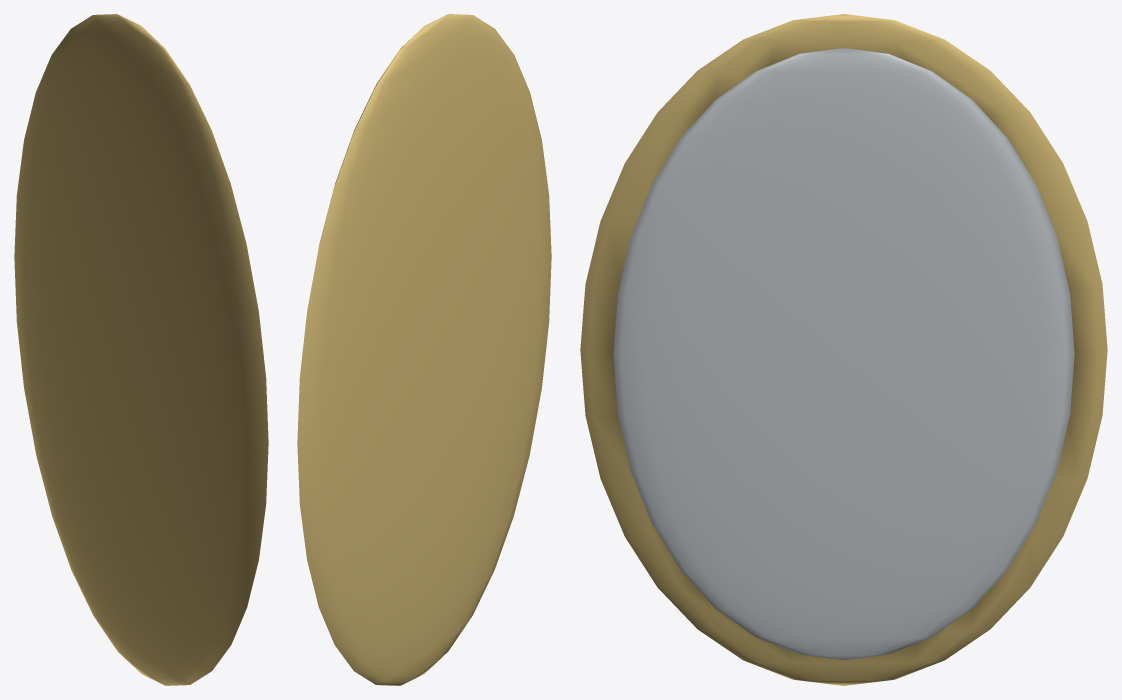
File: mirror.glb
3 renders of one model, left to right at view 1: azimuth 30°, elevation 25°; view 2: azimuth 150°, elevation 25°; view 3: azimuth 270°, elevation 25°, orthographic. The views are drawn at different scales.
Parts seen in each view (by area): view 1: boat_gilt; view 2: boat_gilt; view 3: boat_mirrorg, boat_gilt.
Boxes of the visible parts, x1,y1,x2,y2 form: boat_gilt: (14, 14, 268, 685); boat_gilt: (297, 14, 551, 685); boat_mirrorg: (613, 48, 1074, 660); boat_gilt: (580, 14, 1107, 685).
Size of the model in its own units: 0.044 by 0.9 by 0.64.
